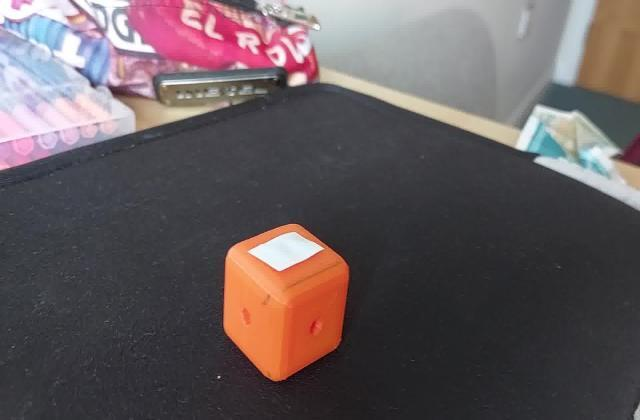cube: (218, 217, 352, 382)
white: (250, 238, 316, 278)
